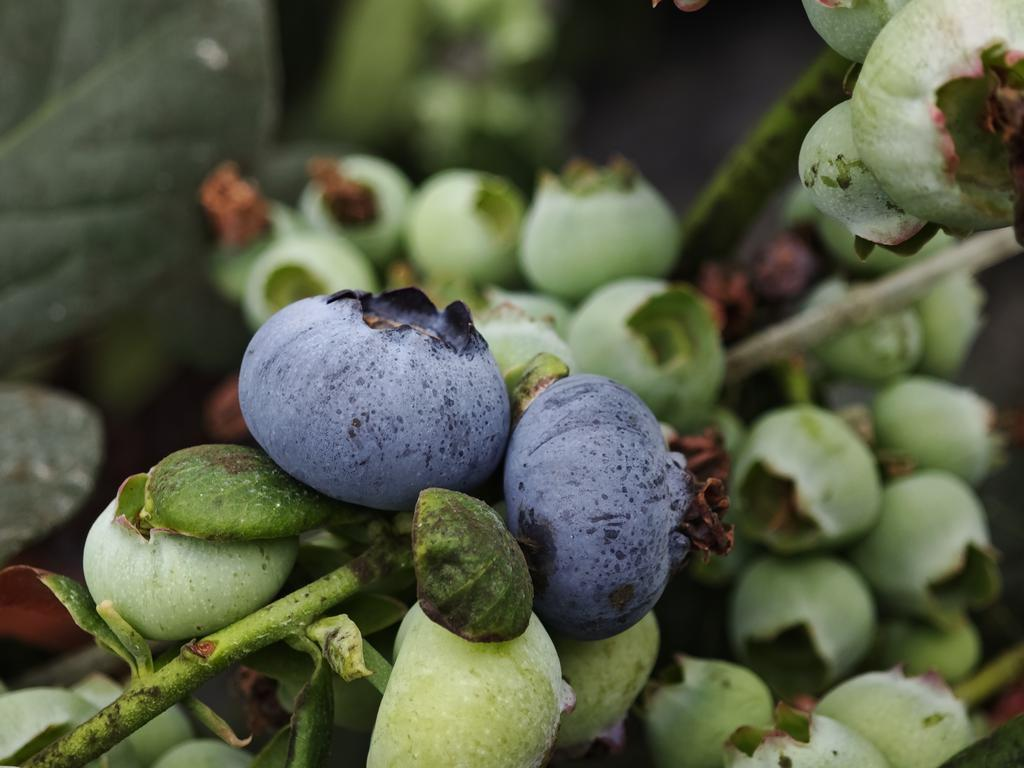RipeBlueBerry: (239, 289, 509, 498), (506, 373, 702, 650)
